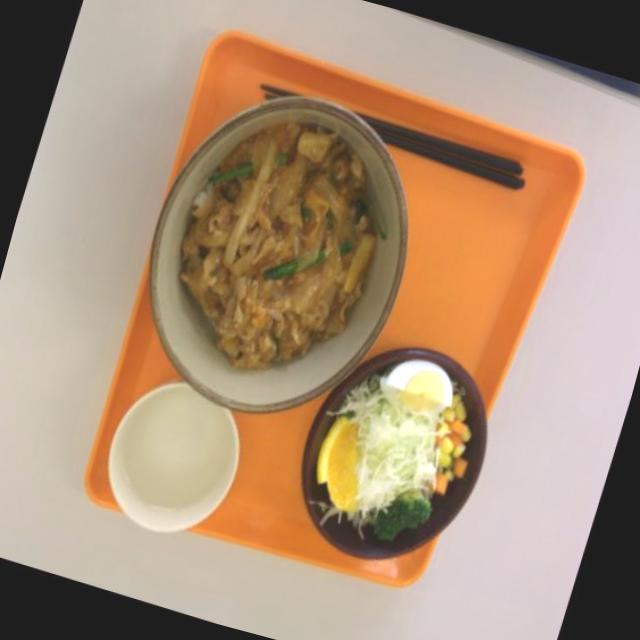Green Salad: (303, 350, 488, 570)
